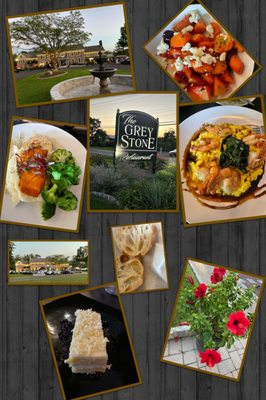soup: (65, 309, 112, 376)
